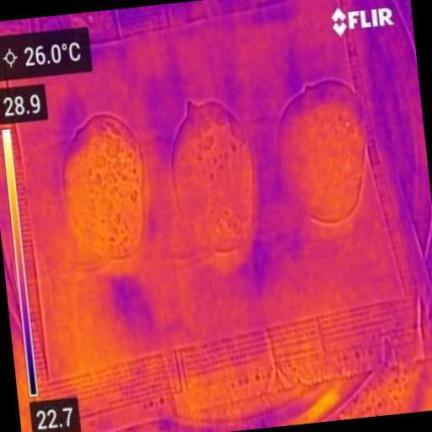mango: (277, 80, 365, 222), (172, 102, 254, 251), (63, 114, 143, 259)
